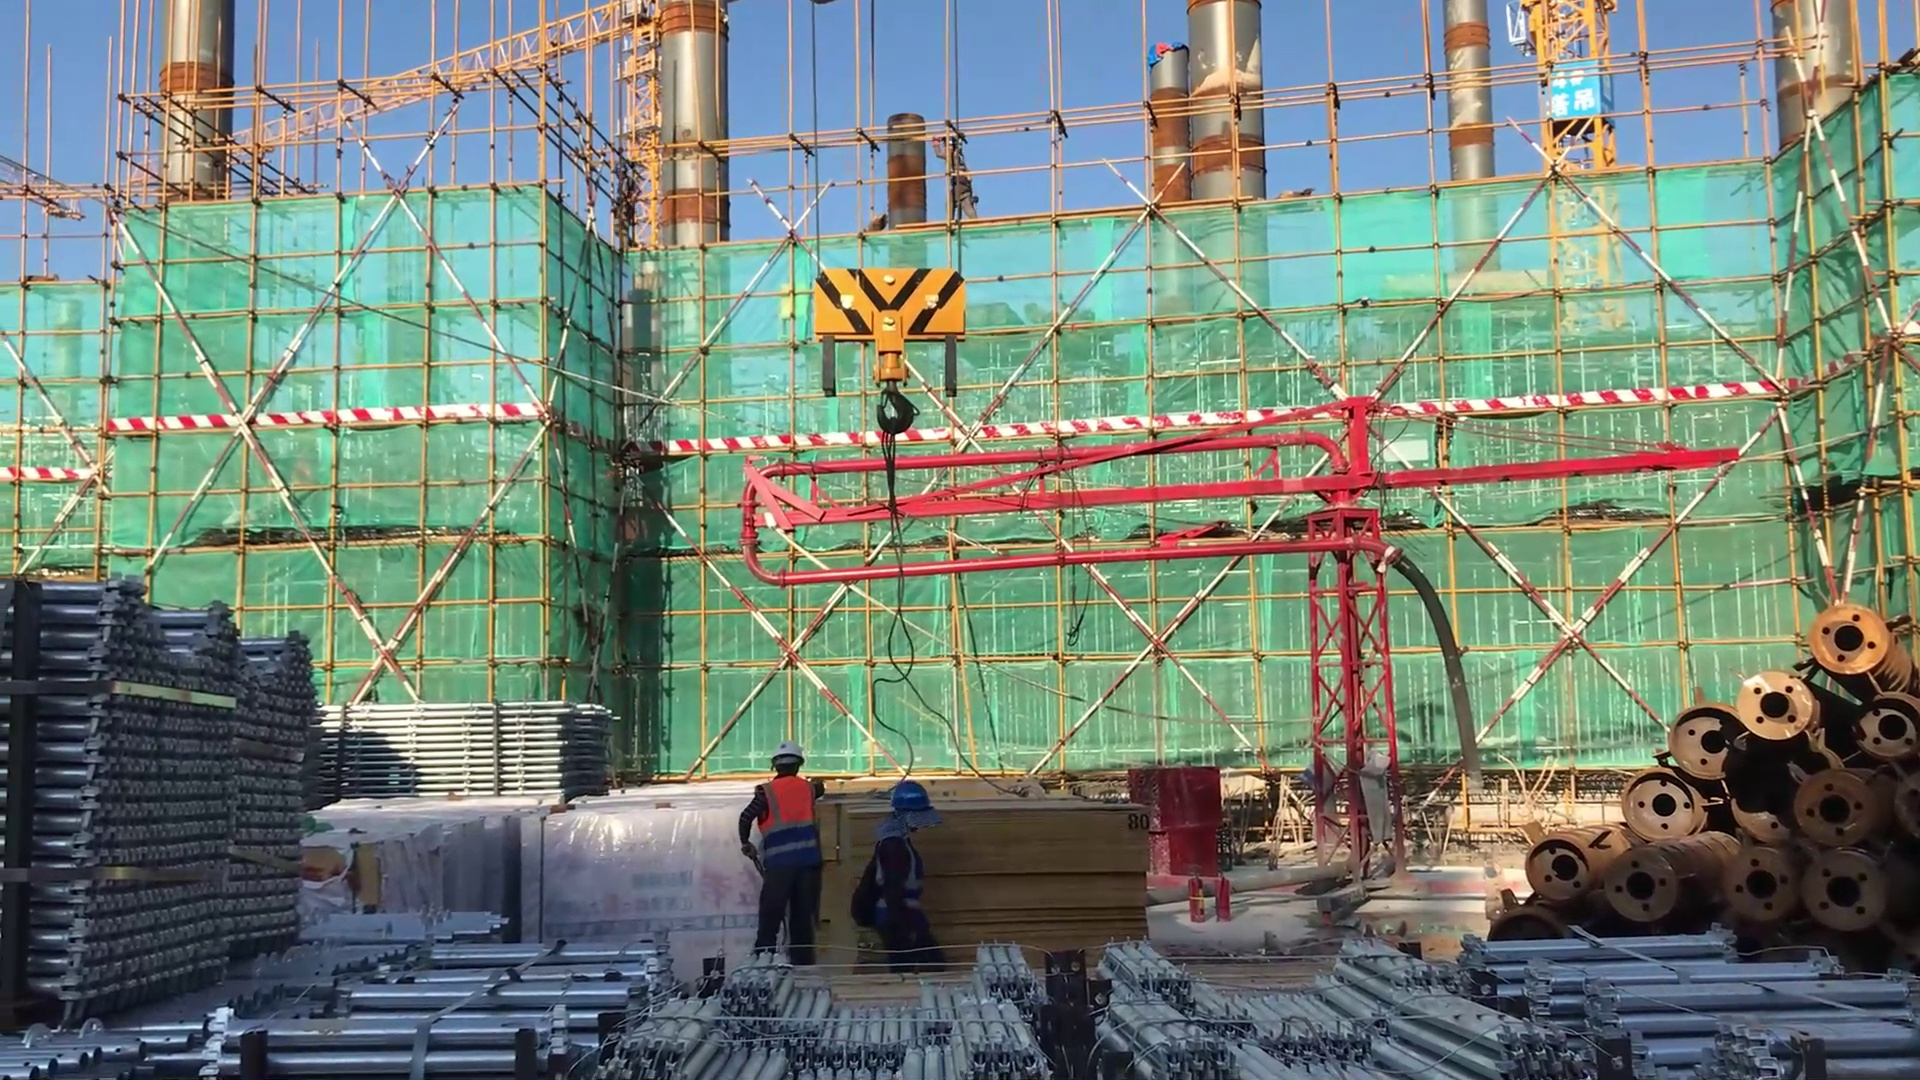board: (822, 790, 1156, 990)
helmet: (879, 780, 947, 838), (761, 729, 815, 795)
hook: (780, 262, 988, 512)
person: (848, 775, 954, 987), (740, 738, 826, 972), (936, 127, 989, 231)
scaffold: (1, 595, 338, 1015), (1, 877, 513, 1080), (1468, 912, 1920, 1077), (607, 928, 1079, 1080), (1108, 923, 1563, 1080), (282, 909, 656, 1080), (309, 682, 630, 809)
slogan: (1543, 56, 1613, 138)
vest: (753, 778, 823, 873), (870, 829, 927, 938)
